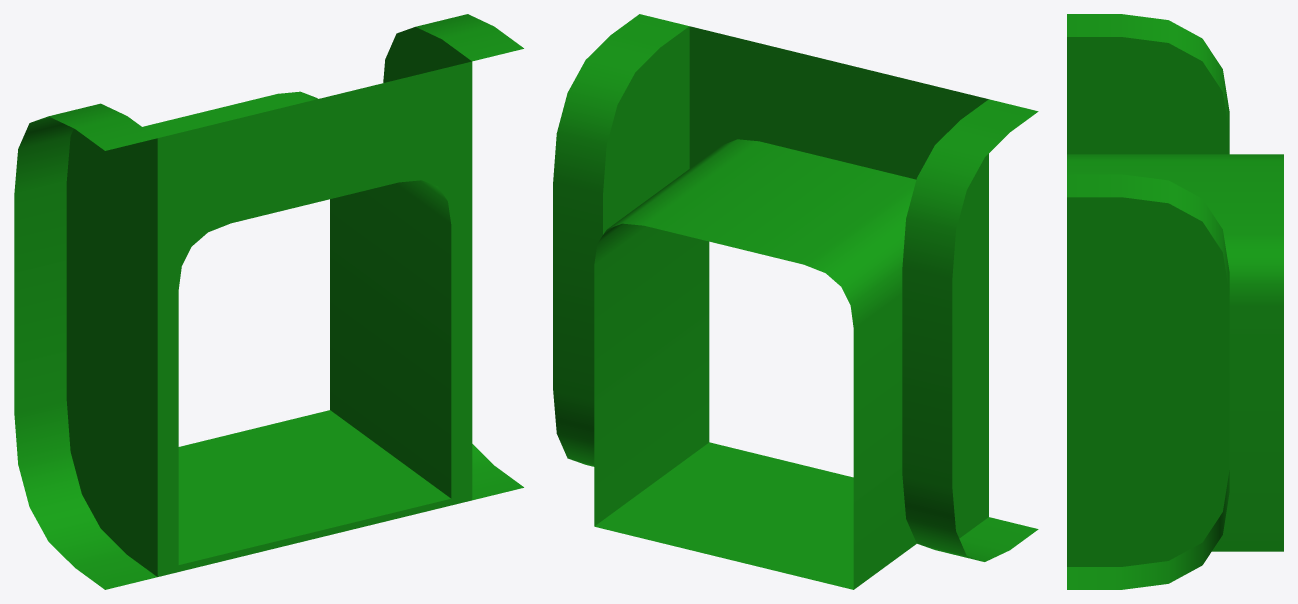
The model's file is Room_Wall_Door_A.FBX.
3 views of the same model, side by side, from view 1: azimuth 30°, elevation 25°; view 2: azimuth 150°, elevation 25°; view 3: azimuth 270°, elevation 25° (orthographic). The views are drawn at different scales.
Parts seen in each view (by area): view 1: Room_Wall_Door_A; view 2: Room_Wall_Door_A; view 3: Room_Wall_Door_A.
Boxes of the visible parts, x1,y1,x2,y2 form: Room_Wall_Door_A: (14, 14, 523, 589); Room_Wall_Door_A: (553, 14, 1038, 589); Room_Wall_Door_A: (1067, 14, 1283, 589).
Size of the model in its own units: 300 by 300 by 150.
